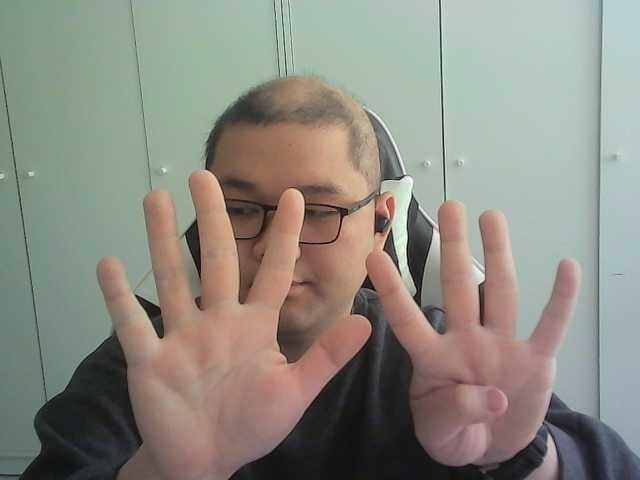Nine: (96, 169, 583, 468)
